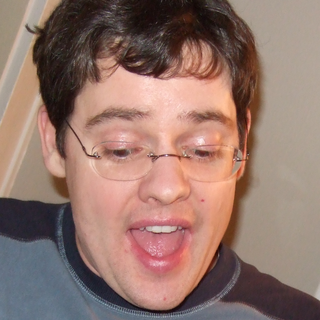eye: (95, 138, 147, 164), (180, 134, 221, 166)
